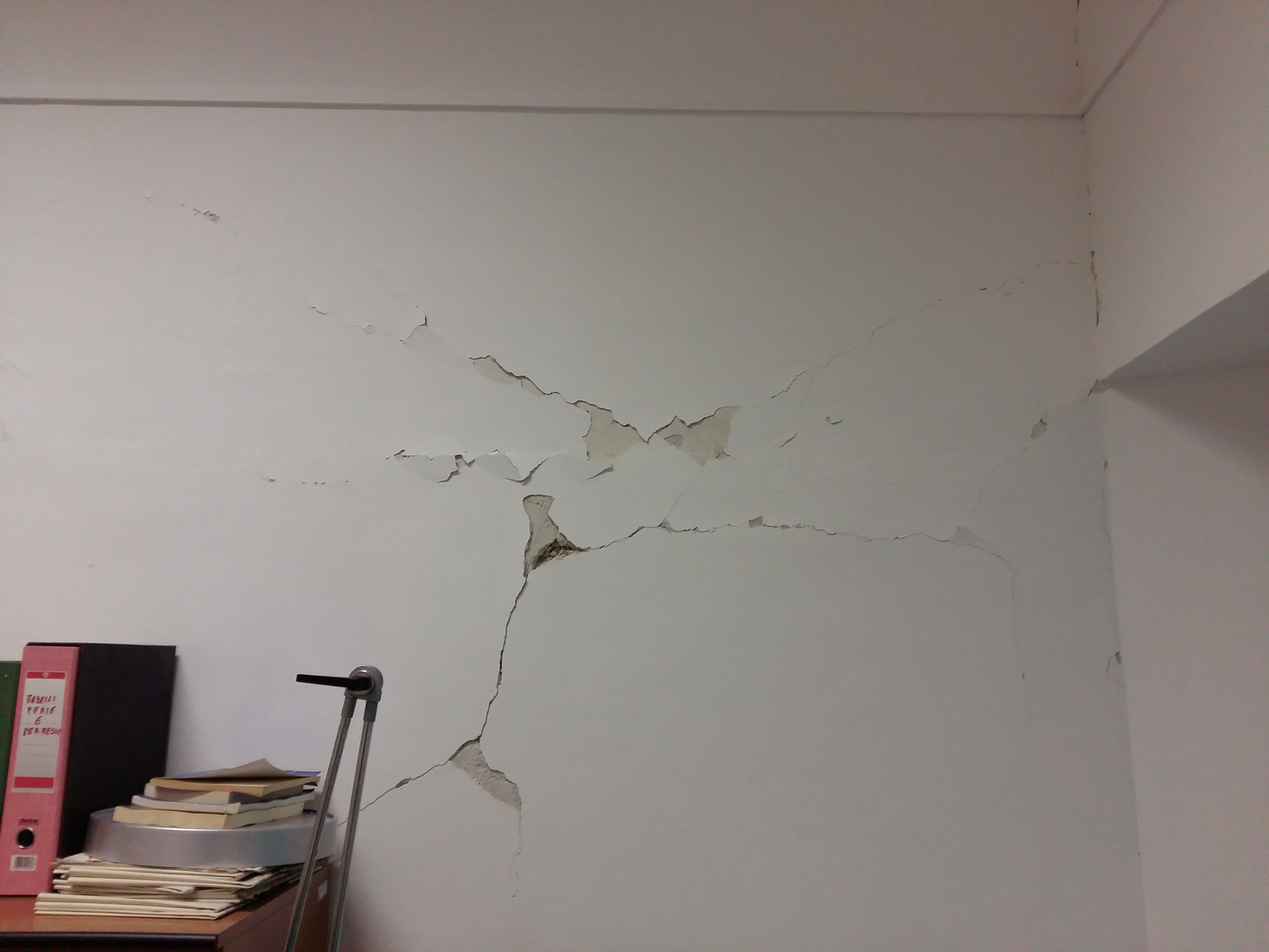Crack: (176, 158, 1099, 871)
